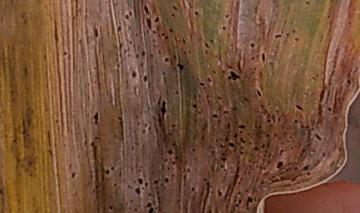tarspot: (255, 102, 286, 126), (113, 112, 128, 139), (155, 95, 171, 120), (225, 68, 242, 85), (41, 144, 59, 158), (200, 176, 212, 197), (232, 189, 242, 210), (89, 110, 102, 126), (312, 130, 325, 146), (261, 142, 274, 158), (147, 35, 160, 51), (241, 156, 259, 167), (139, 2, 152, 17), (84, 167, 100, 179), (109, 50, 125, 62), (232, 164, 243, 181), (257, 51, 270, 65), (273, 158, 287, 171), (79, 134, 91, 149), (187, 101, 202, 113), (250, 87, 265, 99), (142, 17, 153, 33), (89, 25, 101, 39), (292, 102, 306, 114), (175, 58, 187, 72), (111, 22, 124, 34), (132, 186, 145, 198), (163, 146, 176, 158), (186, 145, 199, 157), (224, 138, 237, 150), (189, 7, 203, 18), (217, 154, 231, 165), (289, 163, 303, 174), (194, 79, 209, 89), (128, 67, 140, 79), (218, 22, 230, 34), (187, 184, 199, 196), (239, 93, 251, 105), (59, 46, 70, 59), (207, 162, 220, 173), (168, 2, 182, 12), (164, 25, 178, 35), (310, 69, 320, 83), (133, 175, 145, 186), (272, 30, 283, 42), (114, 40, 126, 51), (149, 177, 161, 188), (235, 121, 247, 132), (197, 133, 208, 145), (238, 136, 249, 148), (68, 171, 81, 181), (101, 165, 111, 178), (220, 10, 234, 19), (182, 165, 193, 176), (151, 13, 161, 25), (161, 173, 171, 185), (251, 142, 261, 154), (109, 179, 121, 189), (90, 182, 102, 192), (179, 203, 191, 213), (138, 122, 153, 130), (209, 110, 218, 123), (215, 187, 224, 200), (161, 54, 171, 65), (121, 10, 131, 21), (247, 39, 257, 50), (202, 40, 212, 51), (301, 162, 311, 173), (124, 182, 135, 192), (128, 143, 138, 154), (76, 35, 86, 46), (124, 22, 134, 33), (107, 201, 116, 213), (140, 72, 149, 84), (167, 121, 179, 130), (270, 129, 279, 141), (256, 177, 268, 186), (112, 62, 124, 71), (247, 53, 257, 63), (318, 150, 328, 160), (126, 37, 135, 48), (179, 35, 188, 46), (169, 141, 180, 150), (325, 103, 334, 114), (278, 145, 287, 156), (221, 107, 230, 118), (288, 25, 299, 34), (51, 118, 64, 125), (204, 206, 217, 213), (92, 133, 101, 143), (345, 77, 354, 87), (291, 35, 301, 44), (290, 116, 300, 125), (216, 142, 225, 152), (181, 48, 191, 57), (139, 48, 147, 59), (216, 93, 224, 104), (144, 200, 155, 208), (161, 31, 169, 42), (263, 158, 274, 166), (323, 12, 332, 21), (171, 88, 180, 97), (230, 104, 239, 113), (208, 146, 217, 155), (170, 159, 180, 167), (210, 67, 218, 77), (299, 146, 307, 156), (171, 11, 179, 20), (160, 70, 168, 79), (245, 195, 253, 204), (192, 117, 200, 126), (137, 166, 145, 175), (284, 29, 291, 39), (263, 130, 270, 140), (146, 207, 157, 213), (303, 121, 309, 132), (140, 129, 148, 137), (346, 19, 354, 27), (133, 205, 140, 213), (236, 179, 244, 186), (301, 1, 312, 6), (246, 171, 252, 177)
